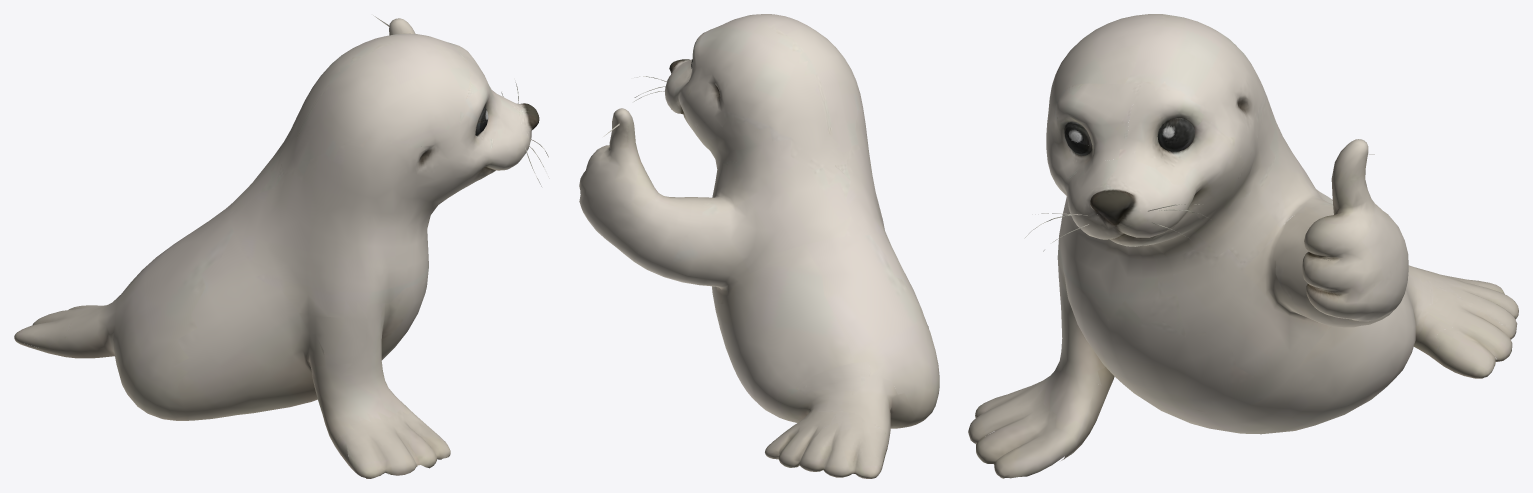
Rendered from seal-v2.glb.
3 views of the same model, side by side, from view 1: azimuth 30°, elevation 25°; view 2: azimuth 150°, elevation 25°; view 3: azimuth 270°, elevation 25° (orthographic). The views are drawn at different scales.
Parts seen in each view (by area): view 1: prop__seal; view 2: prop__seal; view 3: prop__seal.
Boxes of the visible parts, <box> form: prop__seal: <box>14,15,549,478</box>; prop__seal: <box>579,14,939,478</box>; prop__seal: <box>968,14,1518,478</box>.
Size of the model in its own units: 0.4618 by 0.42 by 0.4519.
1 material, 1 textured.
